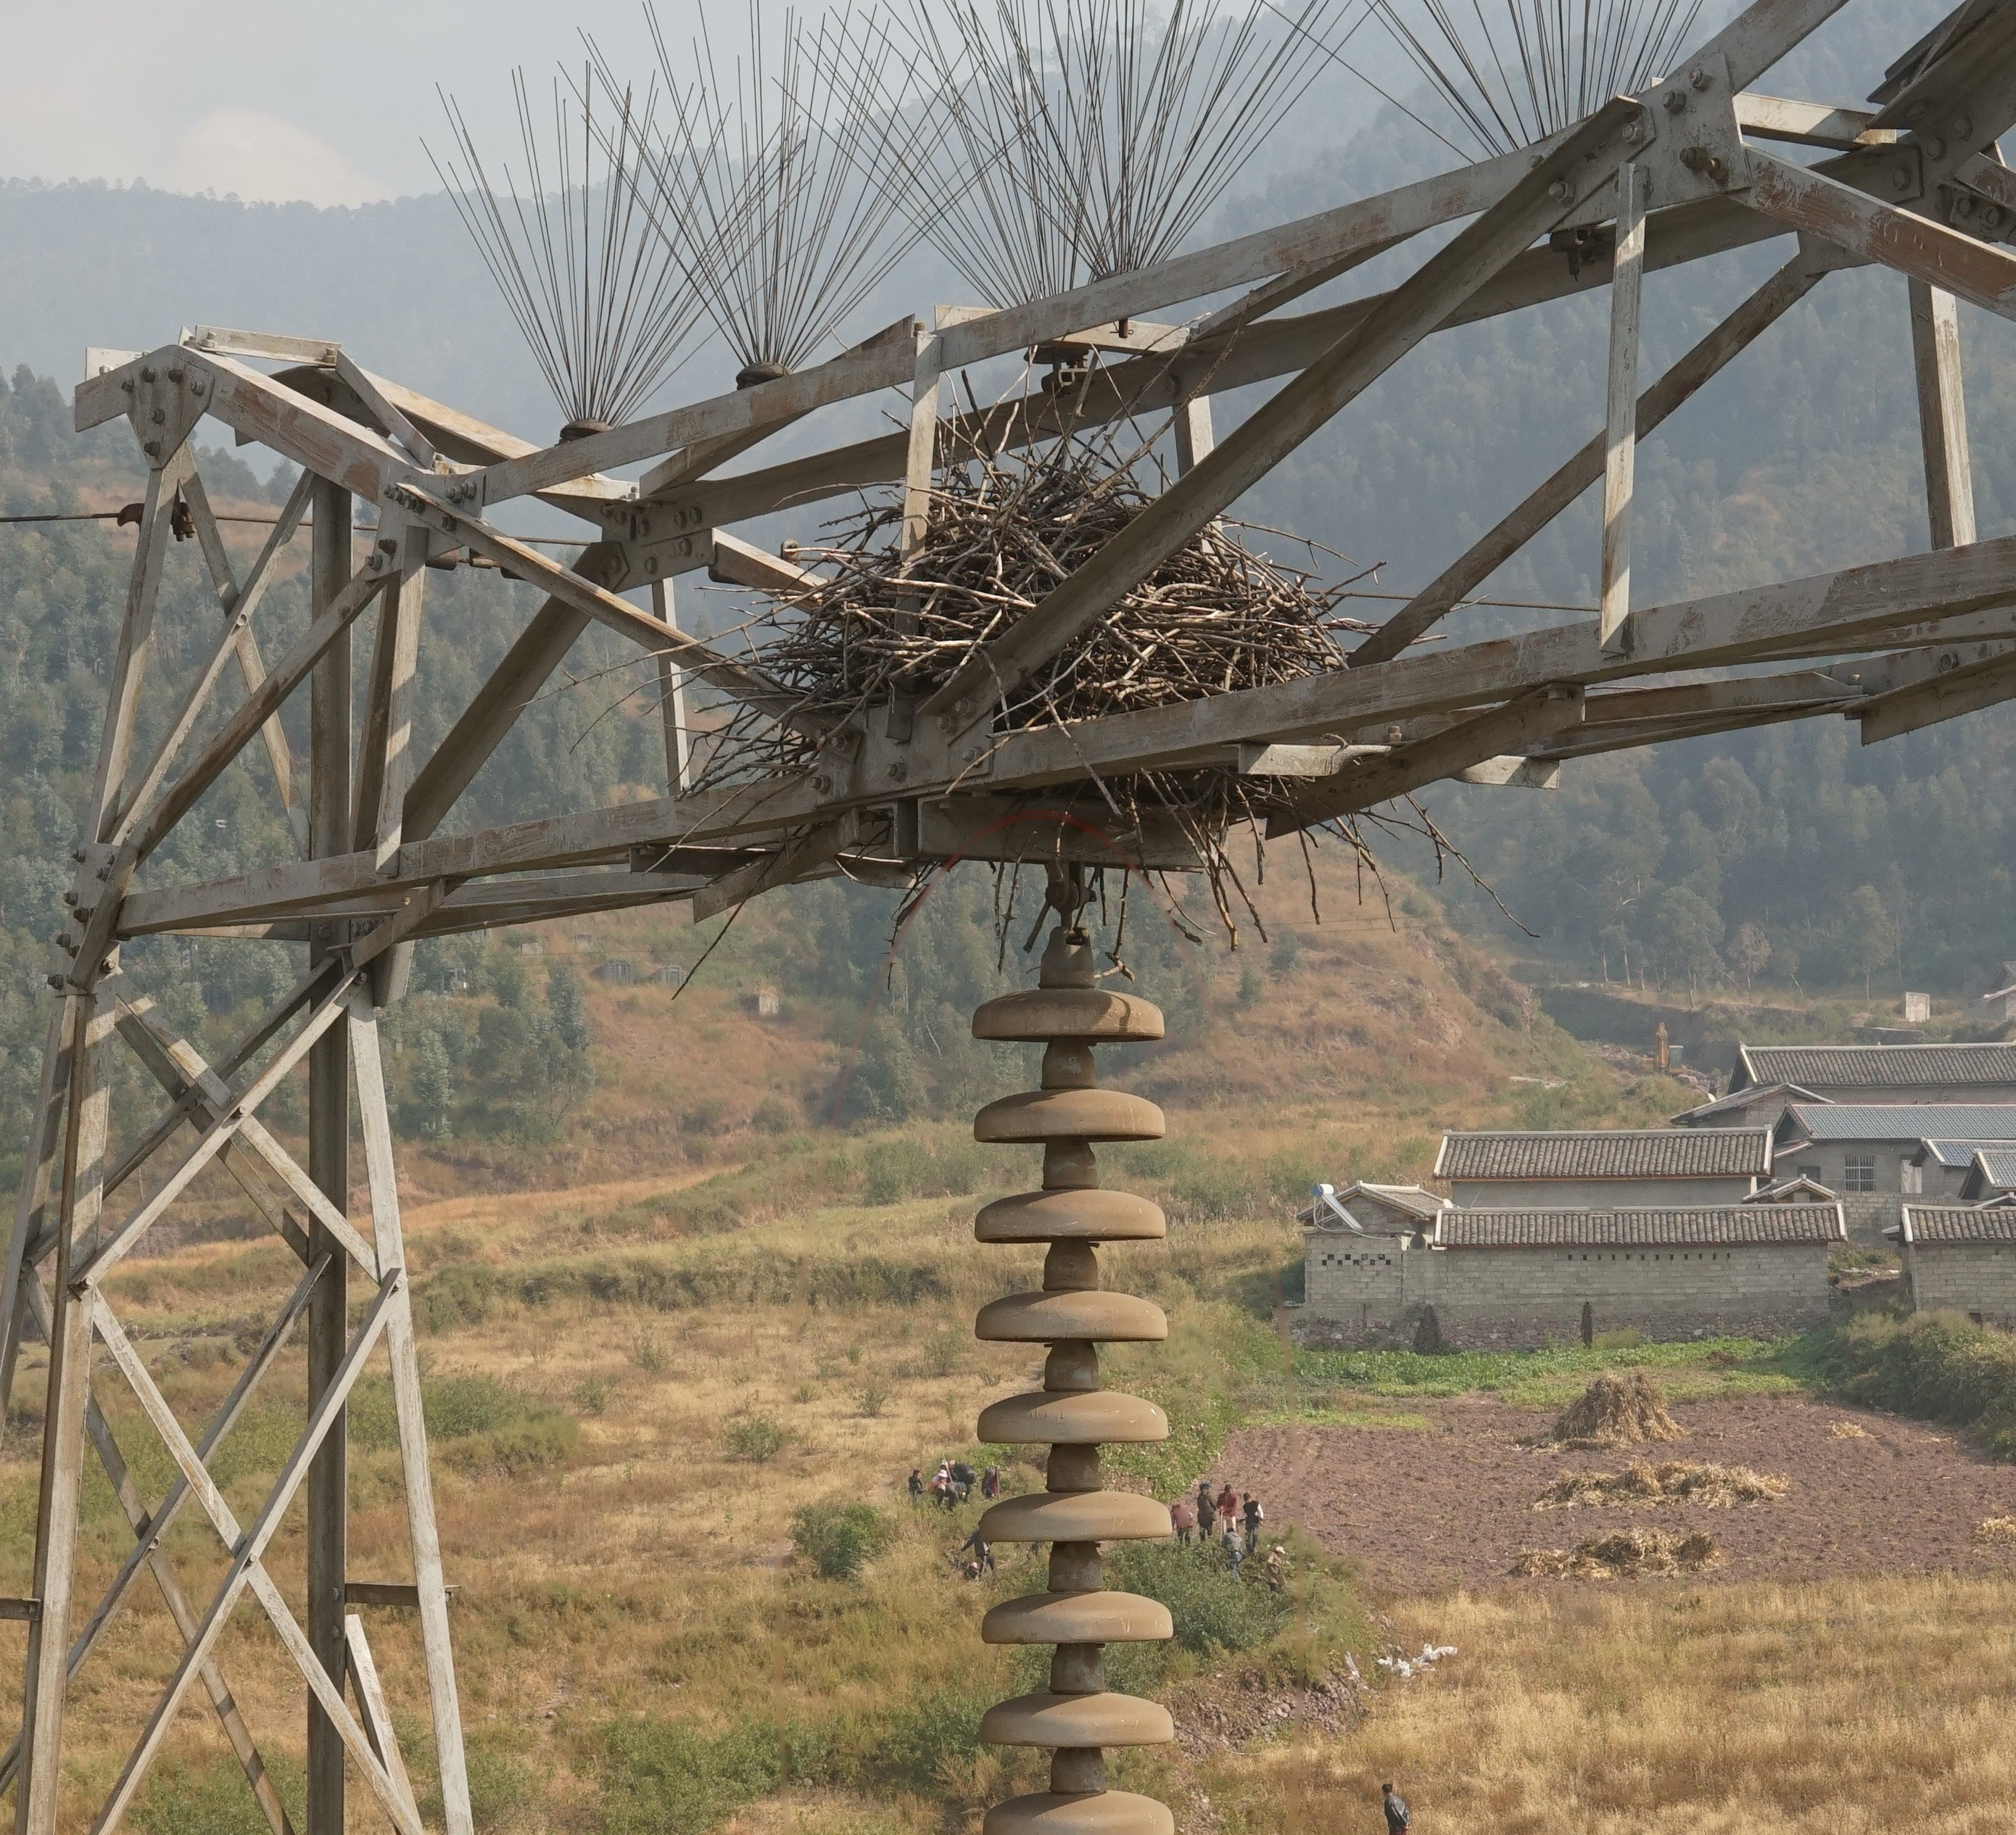niaowo: (738, 423, 1350, 836)
